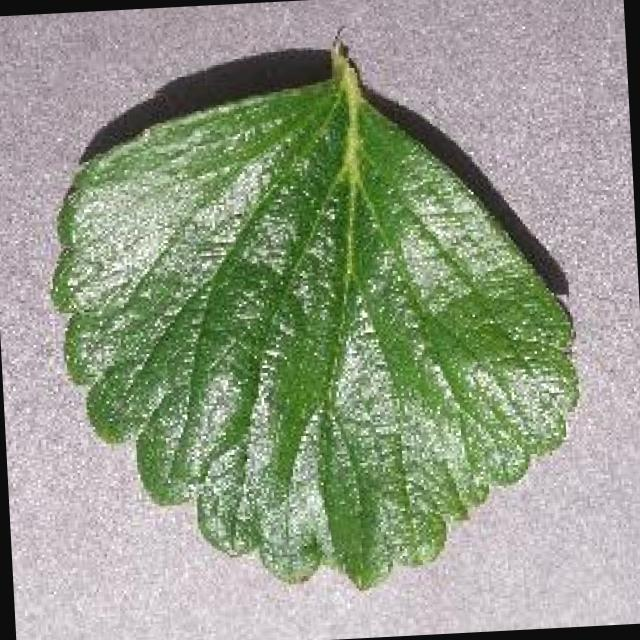healthy: (53, 49, 577, 588)
